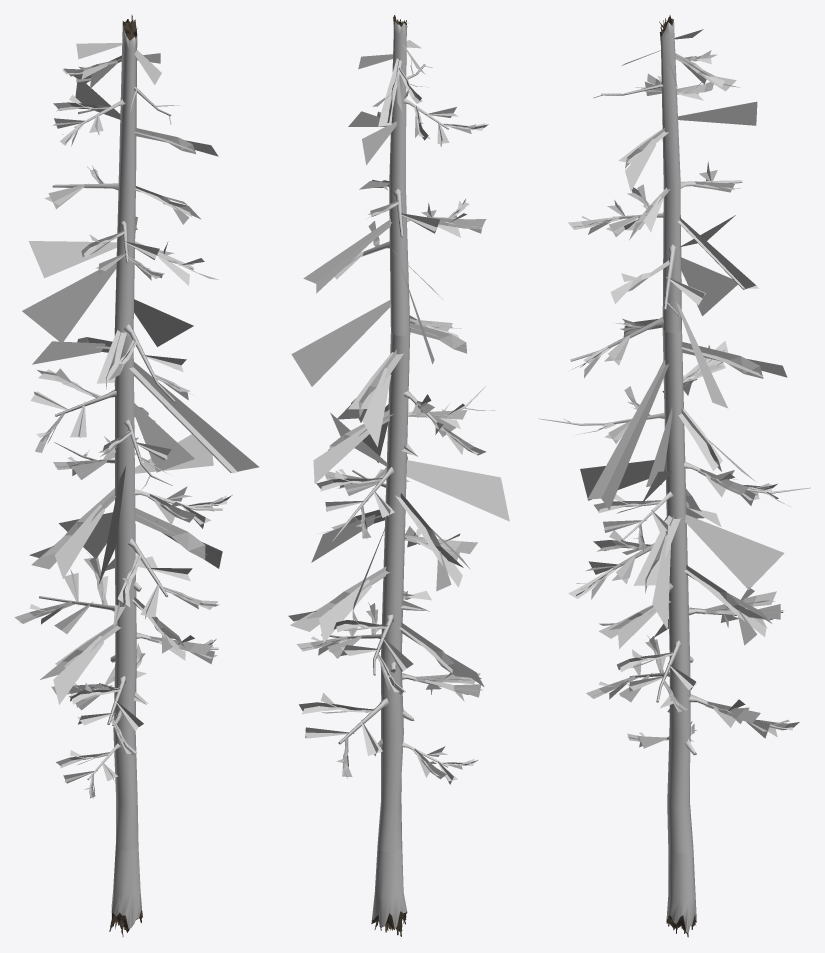
Rendered from SM_PineDead05.fbx.
The picture shows the model from 3 angles, left to right: view 1: azimuth 30°, elevation 25°; view 2: azimuth 150°, elevation 25°; view 3: azimuth 270°, elevation 25°; orthographic projection.
Visible parts, largest first — view 1: SM_PineDead05; view 2: SM_PineDead05; view 3: SM_PineDead05.
Boxes of the visible parts, x1=… form: SM_PineDead05: x1=14, y1=15, x2=259, y2=936; SM_PineDead05: x1=288, y1=15, x2=509, y2=936; SM_PineDead05: x1=538, y1=15, x2=810, y2=937.
Size of what is drawn, in the model's own units: 239 by 1131 by 303.
